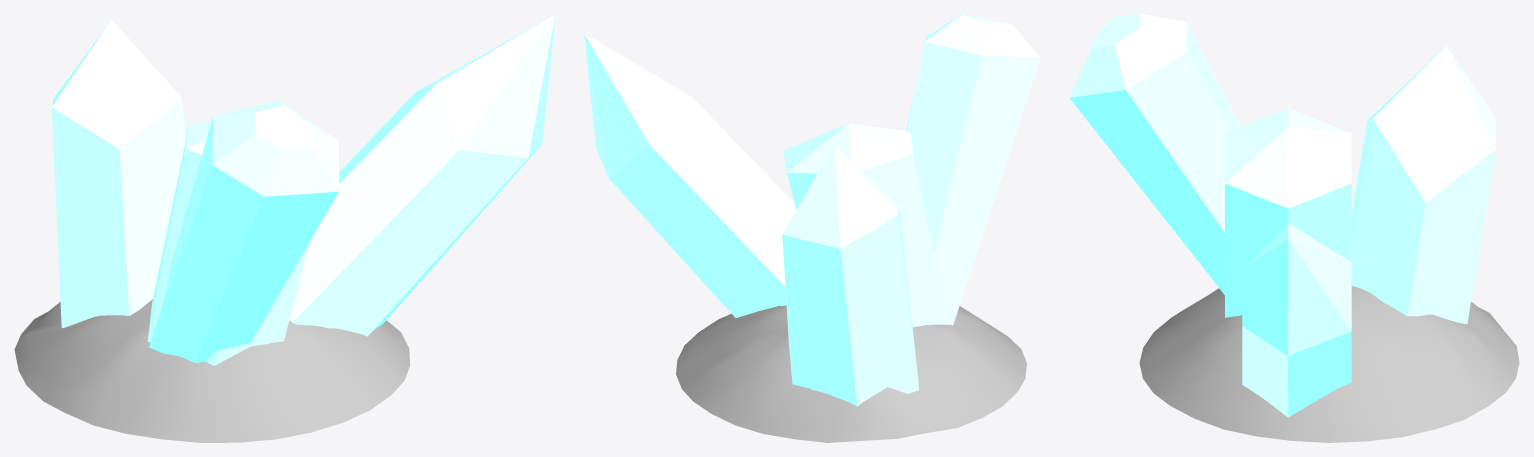
File: crystalForm_va_01.fbx
The picture shows the model from 3 angles, left to right: view 1: azimuth 30°, elevation 25°; view 2: azimuth 150°, elevation 25°; view 3: azimuth 270°, elevation 25°; orthographic projection. The views are drawn at different scales.
Visible parts, largest first — view 1: crystalC, crystalMoundZB, crystalB, crystalA, crystalD; view 2: crystalC, crystalMoundZB, crystalA, crystalB, crystalD; view 3: crystalMoundZB, crystalA, crystalB, crystalC, crystalD.
Part boxes in pixels (x1,y1,x2,y2): crystalC: [289, 14, 555, 336]; crystalMoundZB: [14, 299, 409, 442]; crystalB: [149, 100, 338, 363]; crystalA: [51, 19, 186, 327]; crystalD: [147, 121, 309, 365]; crystalC: [584, 33, 796, 317]; crystalMoundZB: [676, 305, 1026, 442]; crystalA: [782, 144, 918, 406]; crystalB: [906, 14, 1040, 325]; crystalD: [783, 123, 947, 327]; crystalMoundZB: [1139, 286, 1519, 442]; crystalA: [1351, 46, 1495, 323]; crystalB: [1069, 14, 1240, 294]; crystalC: [1242, 223, 1351, 417]; crystalD: [1225, 108, 1351, 317].
Size of the model in its own units: 7.5 by 4.87 by 6.15.
